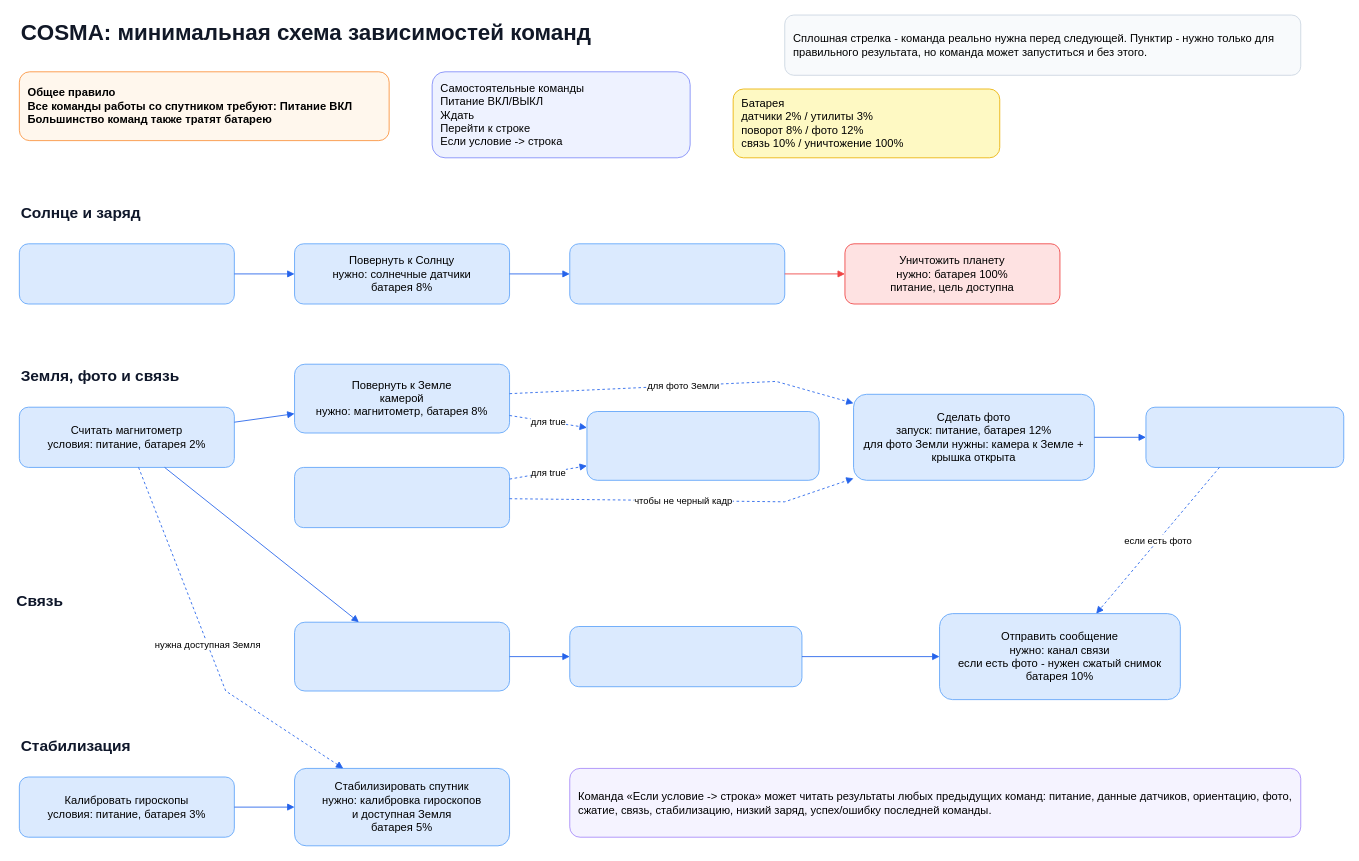
The diagram is 1359 pixels wide and 861 high, and some of its shapes have lost their labels. The shapes that lost their labels are listed below. From the top down, each one's centre as x and y in pixels, then its label:
[126,273]: Считать солнечные датчики условия: питание, батарея 2%
[677,273]: Зарядить батарею нужно: поворот к Солнцу заряд до 100% за 15 сек
[702,445]: Проверить Землю в кадре для true нужны: камера к Земле + крышка открыта
[1244,436]: Сжать снимок нужно: Сделать фото батарея 3%
[402,497]: Открыть крышку камеры условия: питание, батарея 3%
[402,656]: Повернуть антенну к Земле нужно: магнитометр батарея 8%
[685,656]: Проверить канал связи нужно: антенна к Земле батарея 2%
